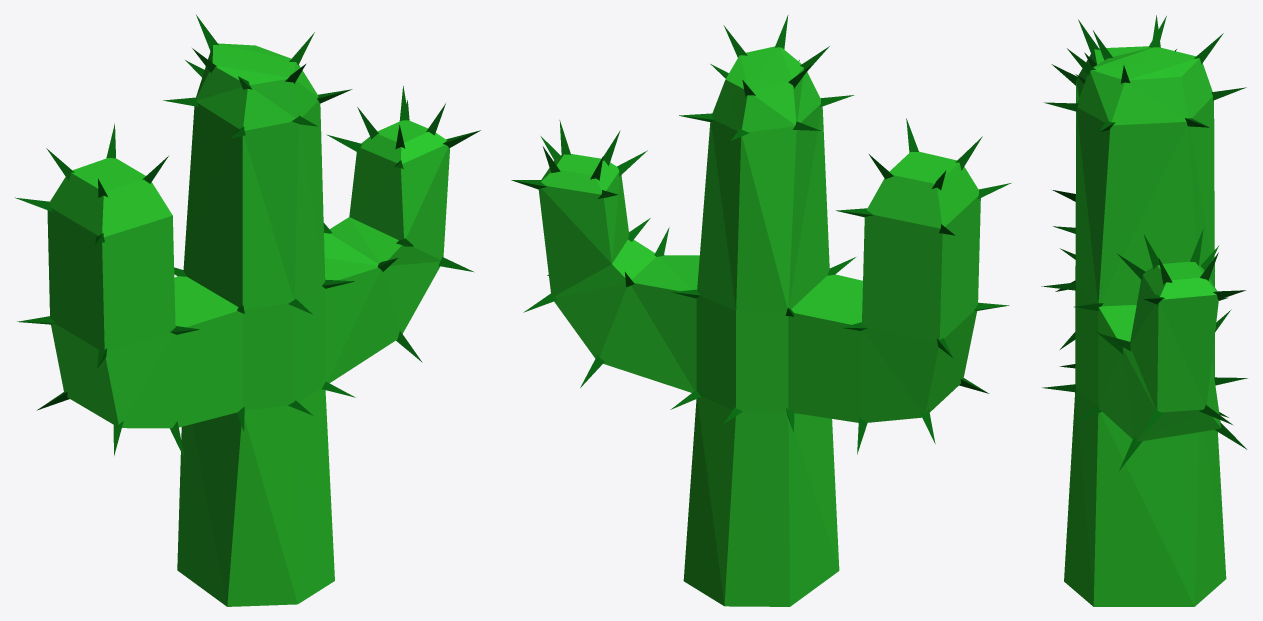
File: cactus.glb
The picture shows the model from 3 angles, left to right: view 1: azimuth 30°, elevation 25°; view 2: azimuth 150°, elevation 25°; view 3: azimuth 270°, elevation 25°; orthographic projection.
Visible parts, largest first — view 1: cactus; view 2: cactus; view 3: cactus.
Part boxes in pixels (x1,y1,x2,y2): cactus: [15, 15, 480, 606]; cactus: [511, 15, 1011, 606]; cactus: [1041, 15, 1247, 606].
Size of what is drawn, in the model's own units: 1.9 by 2.2 by 0.7669.
